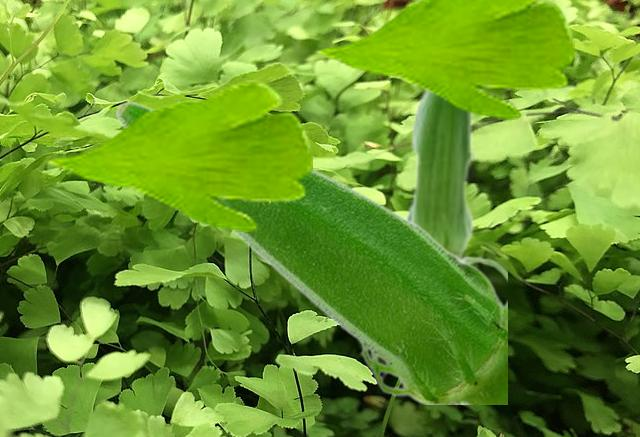okra: (114, 100, 506, 403), (403, 90, 475, 254)
